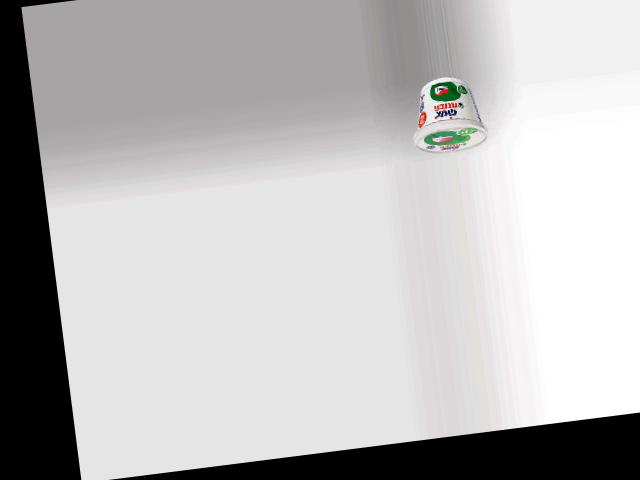cotage: (404, 72, 491, 157)
